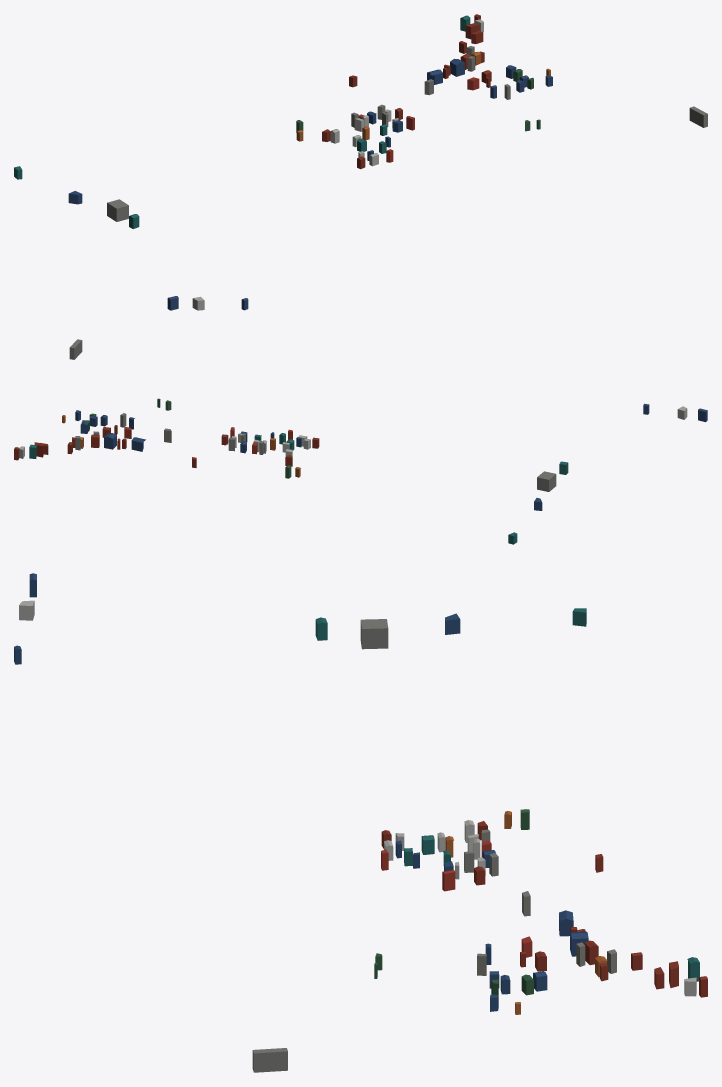
The model's file is near-15-27350-14882.4eebabcc.glb.
3 views of the same model, one above another, from view 1: azimuth 30°, elevation 25°; view 2: azimuth 150°, elevation 25°; view 3: azimuth 270°, elevation 25° (orthographic). The views are drawn at different scales.
Bounding box in the file's own units: 1123 × 55.3 × 728.
